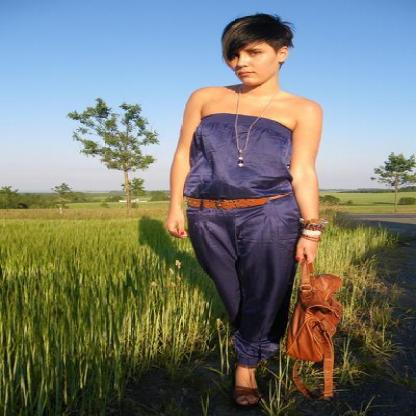bag: (280, 258, 347, 390)
pants: (186, 198, 311, 374)
shirt: (182, 113, 297, 207)
shoe: (235, 380, 263, 404)
